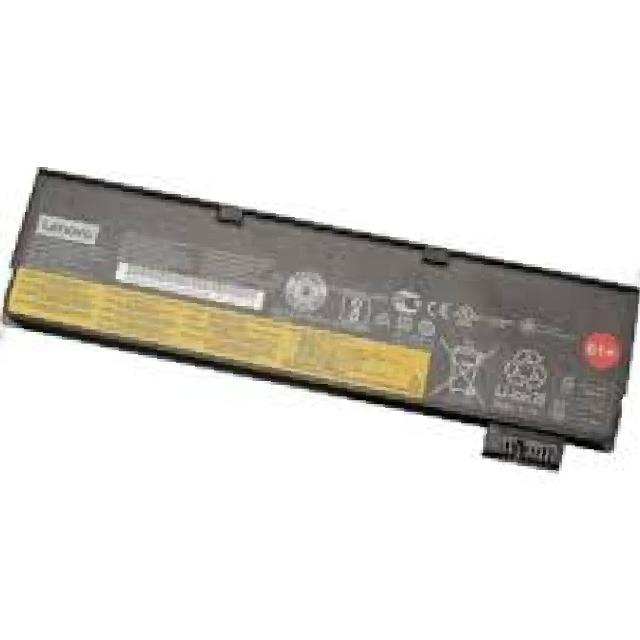Battery: (0, 139, 640, 547)
